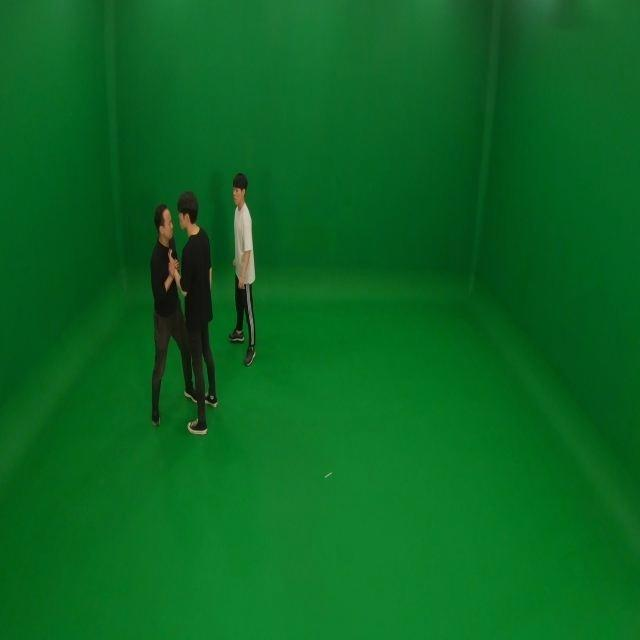fight: (147, 193, 220, 436)
non-fight: (226, 171, 260, 365)
